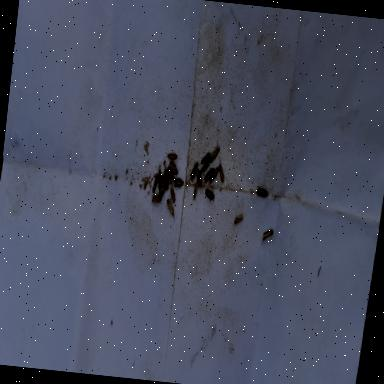pbw: (164, 198, 178, 224), (254, 182, 268, 206), (194, 167, 206, 193), (216, 156, 227, 184), (188, 160, 200, 182), (261, 226, 274, 246), (210, 140, 221, 162), (154, 162, 163, 188), (163, 150, 181, 162), (203, 165, 215, 183), (210, 164, 220, 185), (168, 160, 180, 176), (204, 186, 216, 202), (200, 148, 210, 166), (160, 172, 170, 190), (150, 192, 162, 206), (162, 169, 172, 183), (168, 186, 176, 203), (172, 177, 184, 188), (152, 174, 158, 194), (192, 180, 198, 200), (234, 214, 244, 224), (159, 183, 166, 196)
